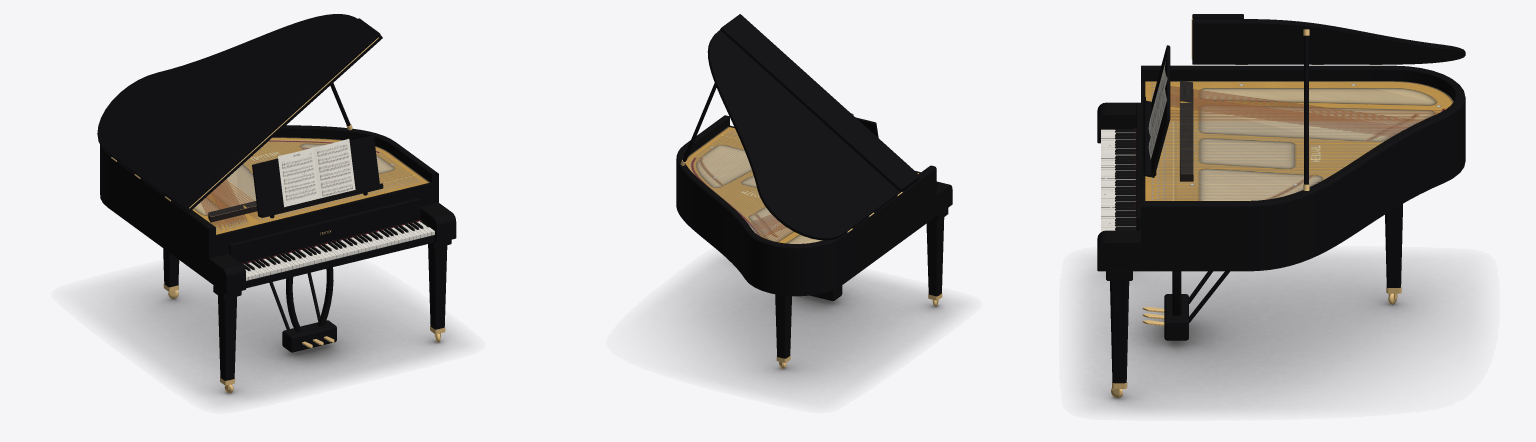
File: grand_piano.glb
The picture shows the model from 3 angles, left to right: view 1: azimuth 30°, elevation 25°; view 2: azimuth 150°, elevation 25°; view 3: azimuth 270°, elevation 25°; orthographic projection. The views are drawn at different scales.
Parts seen in each view (by area): view 1: grand_piano_LOD0, grand_piano_Shadow; view 2: grand_piano_LOD0, grand_piano_Shadow; view 3: grand_piano_LOD0, grand_piano_Shadow.
Boxes of the visible parts, <box> form: grand_piano_LOD0: <box>97,14,456,393</box>; grand_piano_Shadow: <box>101,271,459,402</box>; grand_piano_LOD0: <box>676,14,952,368</box>; grand_piano_Shadow: <box>672,255,958,392</box>; grand_piano_LOD0: <box>1097,14,1465,397</box>; grand_piano_Shadow: <box>1083,257,1463,410</box>.
Size of what is drawn, in the model's own units: 2 by 1.81 by 2.14.
Materials: 4 (3 with a texture image).
